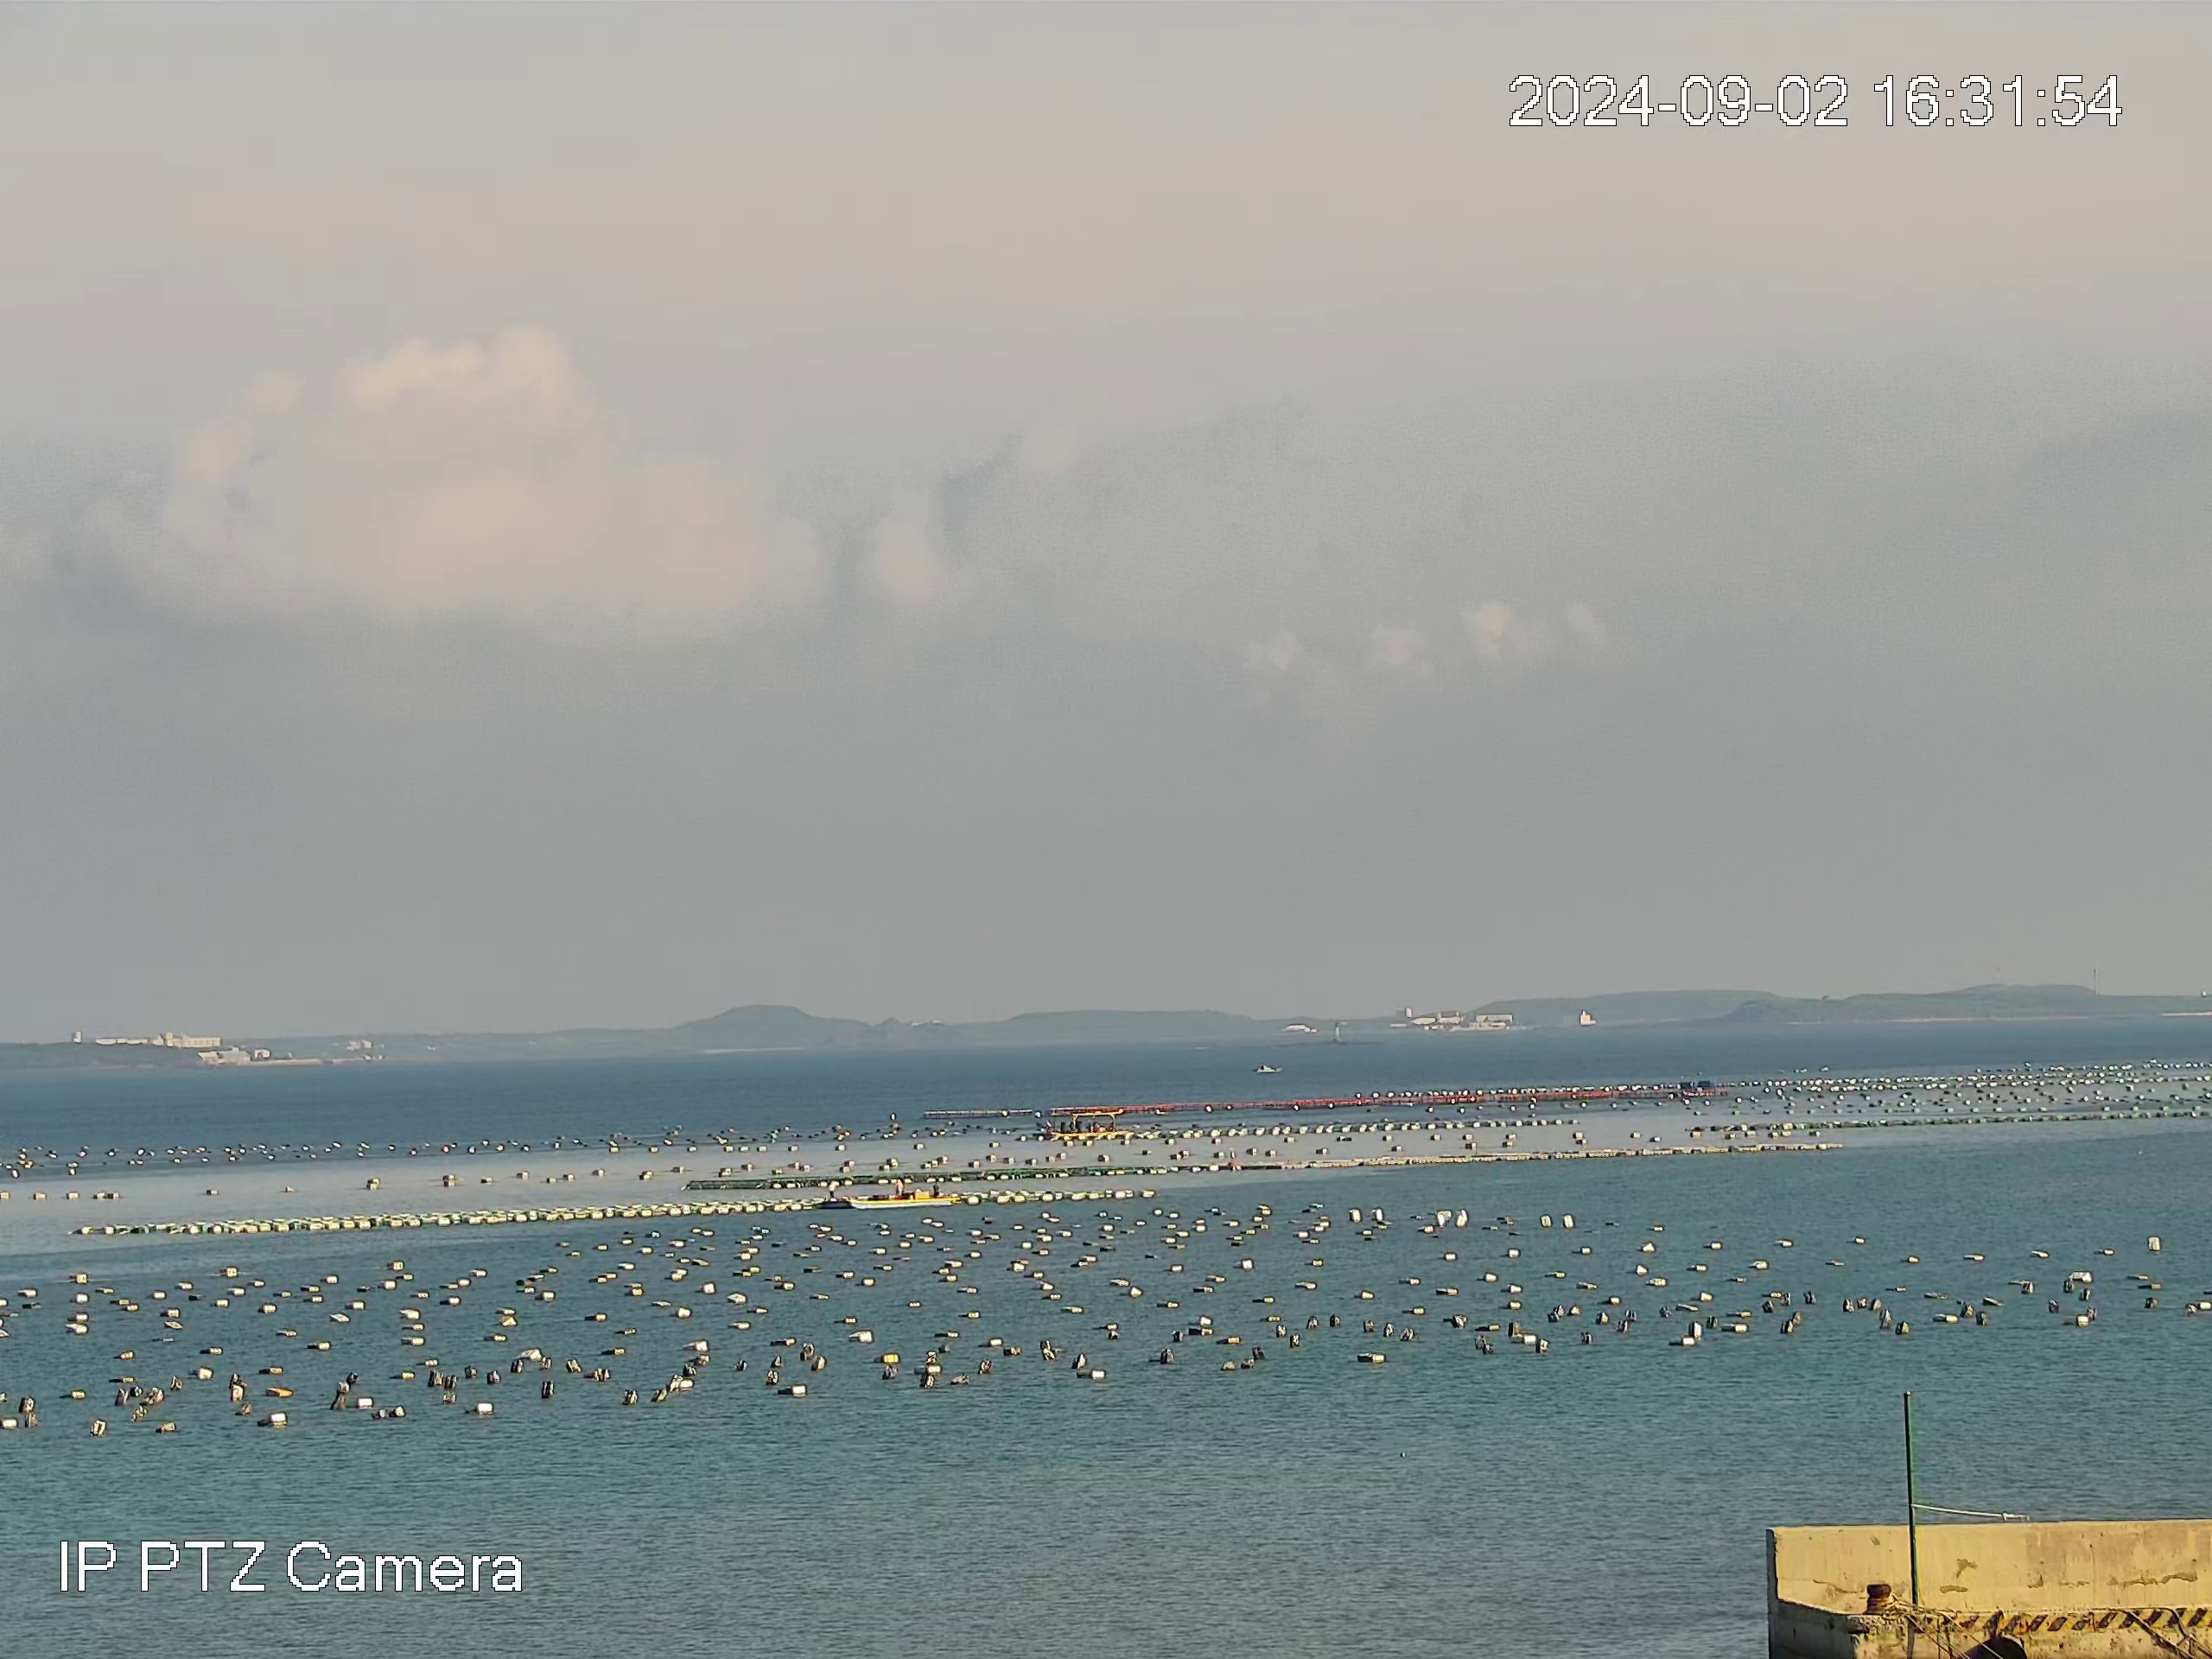boat: (842, 1177, 961, 1211), (1065, 1108, 1129, 1137), (1253, 1063, 1283, 1074)
